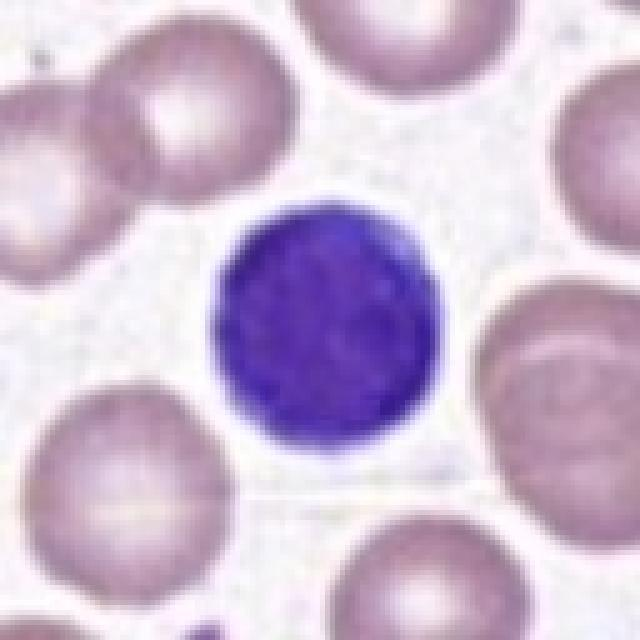lympho: (208, 191, 452, 459)
